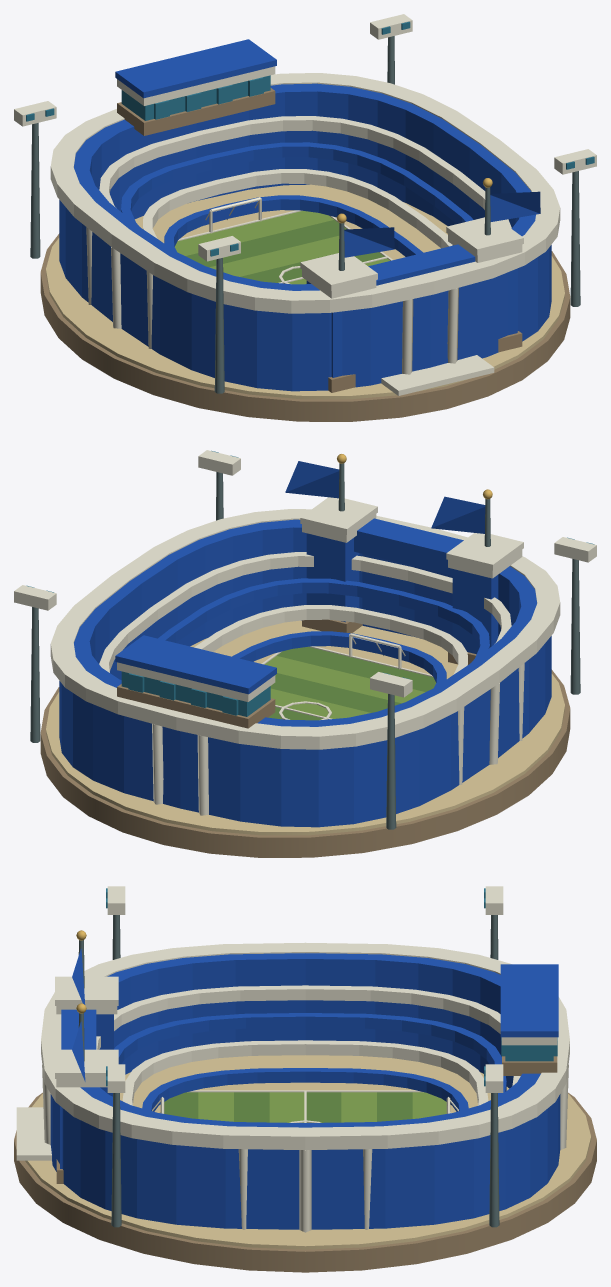
Rendered from main-stadium-lv3.glb.
3 views of the same model, one above another, from view 1: azimuth 30°, elevation 25°; view 2: azimuth 150°, elevation 25°; view 3: azimuth 270°, elevation 25° (orthographic). The views are drawn at different scales.
Parts seen in each view (by area): view 1: stadium_shell_royal, upper_concourse_white, foundation_stoneDark, foundation_sand, seating_white, seating_royal, media_box_roof_royal, pitch_grassLight, lighting_iron, entrance_pylons_roof_white, facade_ribs_white, pitch_grass (+14 smaller); view 2: stadium_shell_royal, upper_concourse_white, foundation_stoneDark, foundation_sand, seating_white, seating_royal, entrance_pylons_royal, media_box_roof_royal, pitch_grass, lighting_iron, entrance_pylons_roof_white, entrance_bridge_royal (+12 smaller); view 3: stadium_shell_royal, upper_concourse_white, foundation_sand, foundation_stoneDark, seating_white, seating_royal, media_box_roof_royal, pitch_grassLight, pitch_grass, entrance_pylons_roof_white, facade_ribs_white, lighting_iron (+10 smaller).
Part boxes in pixels (left/top/right/bottom): stadium_shell_royal: left=59, top=83, right=551, bottom=391; upper_concourse_white: left=50, top=73, right=560, bottom=313; foundation_stoneDark: left=40, top=233, right=570, bottom=421; foundation_sand: left=46, top=184, right=564, bottom=399; seating_white: left=99, top=116, right=511, bottom=248; seating_royal: left=121, top=142, right=473, bottom=256; media_box_roof_royal: left=115, top=39, right=276, bottom=98; pitch_grassLight: left=175, top=211, right=390, bottom=284; lighting_iron: left=30, top=36, right=580, bottom=393; entrance_pylons_roof_white: left=300, top=217, right=523, bottom=290; facade_ribs_white: left=86, top=227, right=458, bottom=374; pitch_grass: left=185, top=220, right=384, bottom=282; stadium_shell_royal: left=59, top=519, right=551, bottom=827; upper_concourse_white: left=50, top=509, right=560, bottom=749; foundation_stoneDark: left=40, top=669, right=570, bottom=857; foundation_sand: left=46, top=620, right=564, bottom=835; seating_white: left=99, top=552, right=511, bottom=674; seating_royal: left=158, top=578, right=489, bottom=687; entrance_pylons_royal: left=306, top=533, right=498, bottom=654; media_box_roof_royal: left=115, top=635, right=276, bottom=694; pitch_grass: left=268, top=647, right=435, bottom=720; lighting_iron: left=30, top=472, right=580, bottom=829; entrance_pylons_roof_white: left=300, top=497, right=523, bottom=570; entrance_bridge_royal: left=354, top=518, right=463, bottom=575; stadium_shell_royal: left=50, top=953, right=560, bottom=1229; upper_concourse_white: left=41, top=942, right=569, bottom=1150; foundation_sand: left=25, top=1055, right=591, bottom=1249; foundation_stoneDark: left=14, top=1092, right=596, bottom=1272; seating_white: left=96, top=985, right=520, bottom=1105; seating_royal: left=114, top=1013, right=506, bottom=1111; media_box_roof_royal: left=500, top=964, right=558, bottom=1037; pitch_grassLight: left=198, top=1092, right=446, bottom=1122; pitch_grass: left=164, top=1092, right=412, bottom=1122; entrance_pylons_roof_white: left=55, top=976, right=118, bottom=1078; facade_ribs_white: left=42, top=1065, right=568, bottom=1232; lighting_iron: left=111, top=915, right=499, bottom=1227.
Size of the model in its own units: 0.9074 by 0.3662 by 1.
